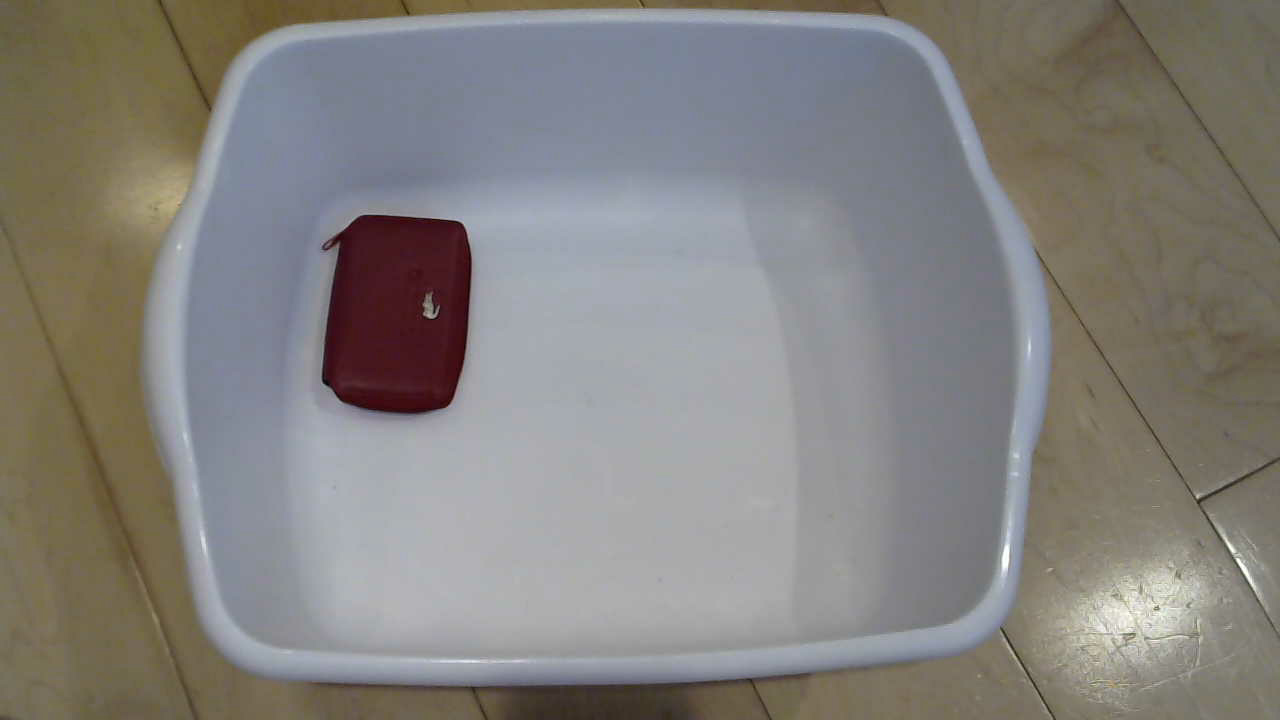wallet: (306, 201, 494, 432)
